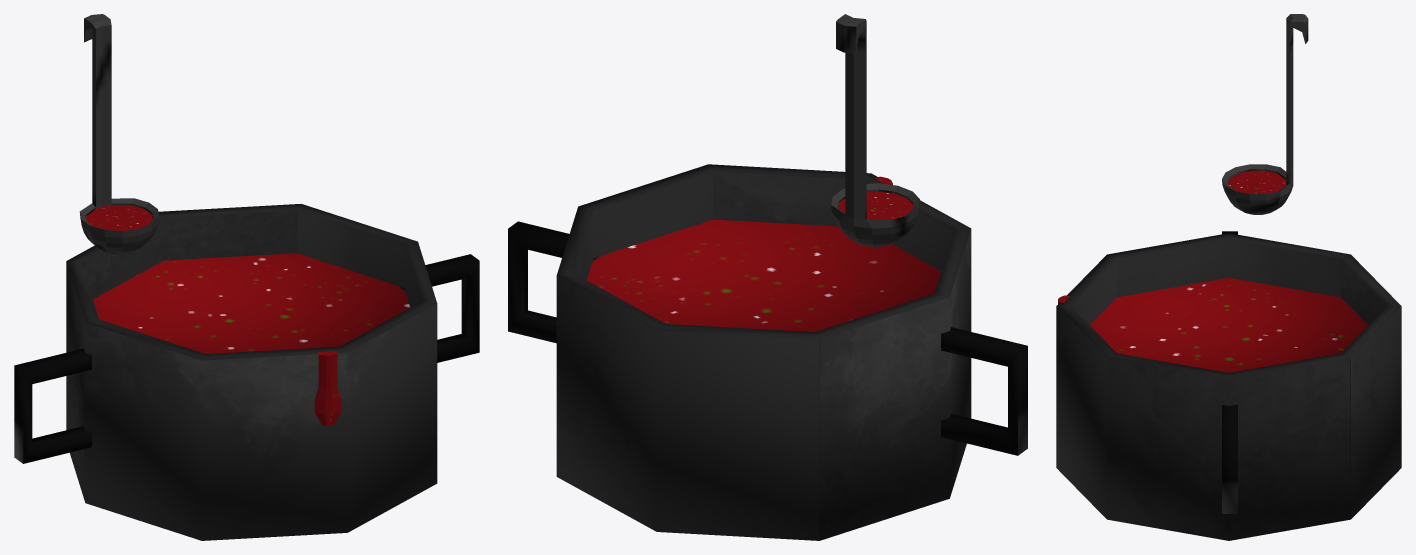
Rendered from Molho.fbx.
3 views of the same model, side by side, from view 1: azimuth 30°, elevation 25°; view 2: azimuth 150°, elevation 25°; view 3: azimuth 270°, elevation 25° (orthographic). The views are drawn at different scales.
Visible parts, largest first — view 1: MolhoDeTomate.001, ColherDemolho; view 2: MolhoDeTomate.001, ColherDemolho; view 3: MolhoDeTomate.001, ColherDemolho.
Boxes of the visible parts, bbox=[...] form: MolhoDeTomate.001: bbox=[14, 204, 479, 540]; ColherDemolho: bbox=[79, 14, 159, 254]; MolhoDeTomate.001: bbox=[508, 164, 1027, 540]; ColherDemolho: bbox=[831, 14, 919, 246]; MolhoDeTomate.001: bbox=[1056, 231, 1401, 540]; ColherDemolho: bbox=[1222, 14, 1308, 214].
Bounding box in the file's own units: 77.96 × 72.54 × 56.83.
